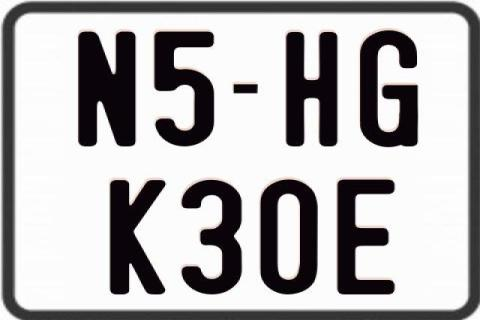0: (257, 179, 321, 297), (152, 30, 212, 148), (179, 178, 239, 294)
E: (336, 178, 394, 298)
G: (360, 29, 420, 147)
H: (284, 30, 338, 150)
K: (108, 180, 165, 298)
N: (76, 31, 135, 149)
